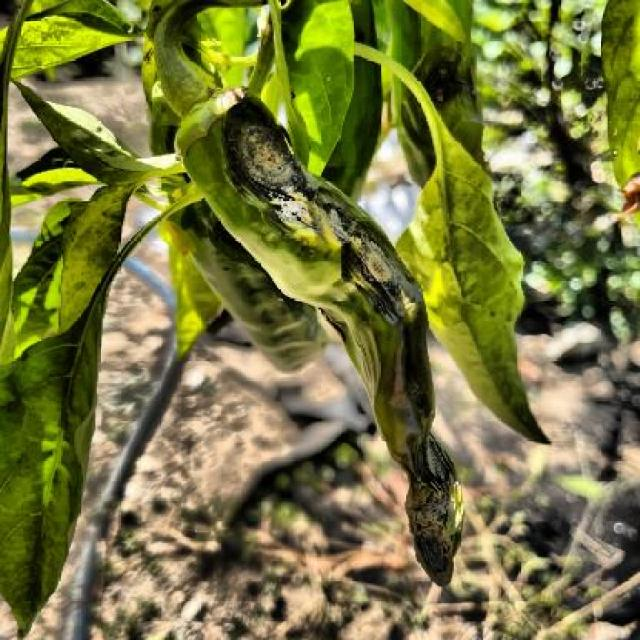Moko: (184, 101, 476, 558), (0, 101, 162, 581), (416, 101, 550, 420), (563, 0, 640, 188), (22, 0, 137, 72)
